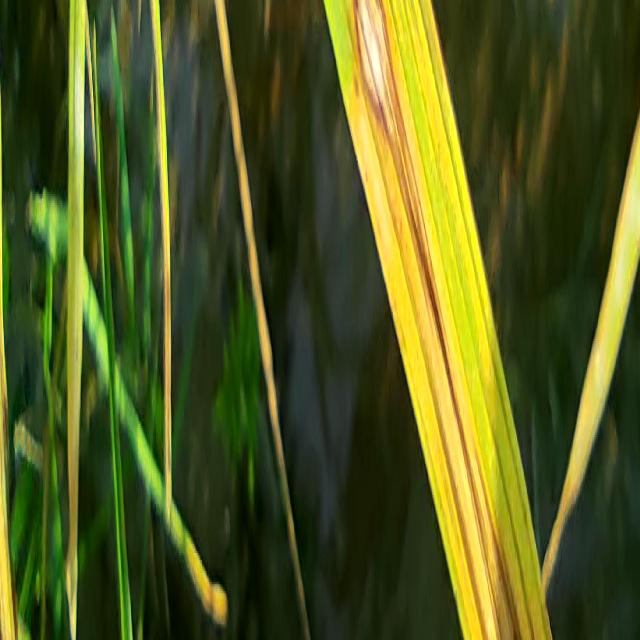LEAF BLAST: (352, 0, 502, 640)
